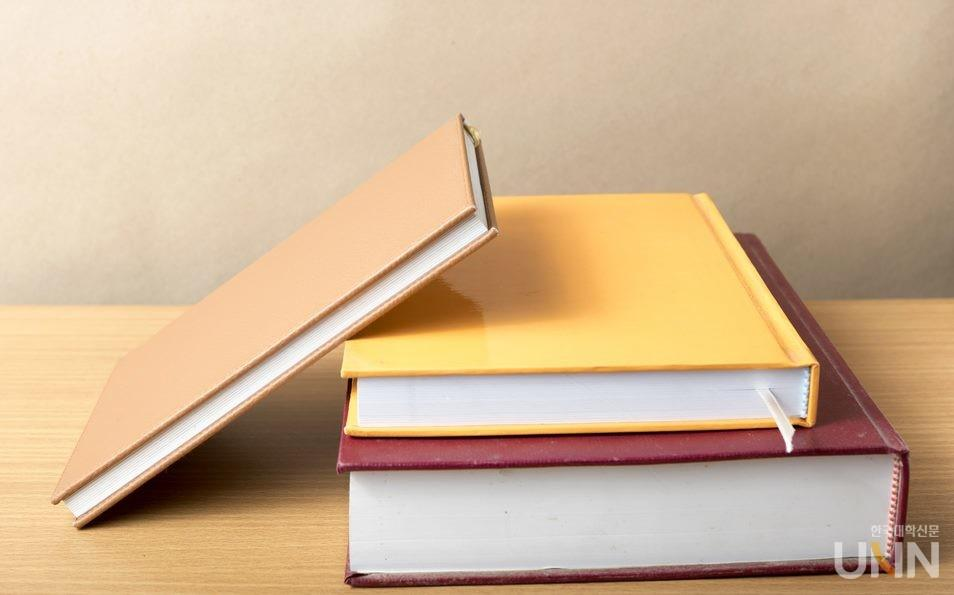book: (338, 228, 909, 585), (50, 110, 498, 529), (339, 190, 820, 438)
